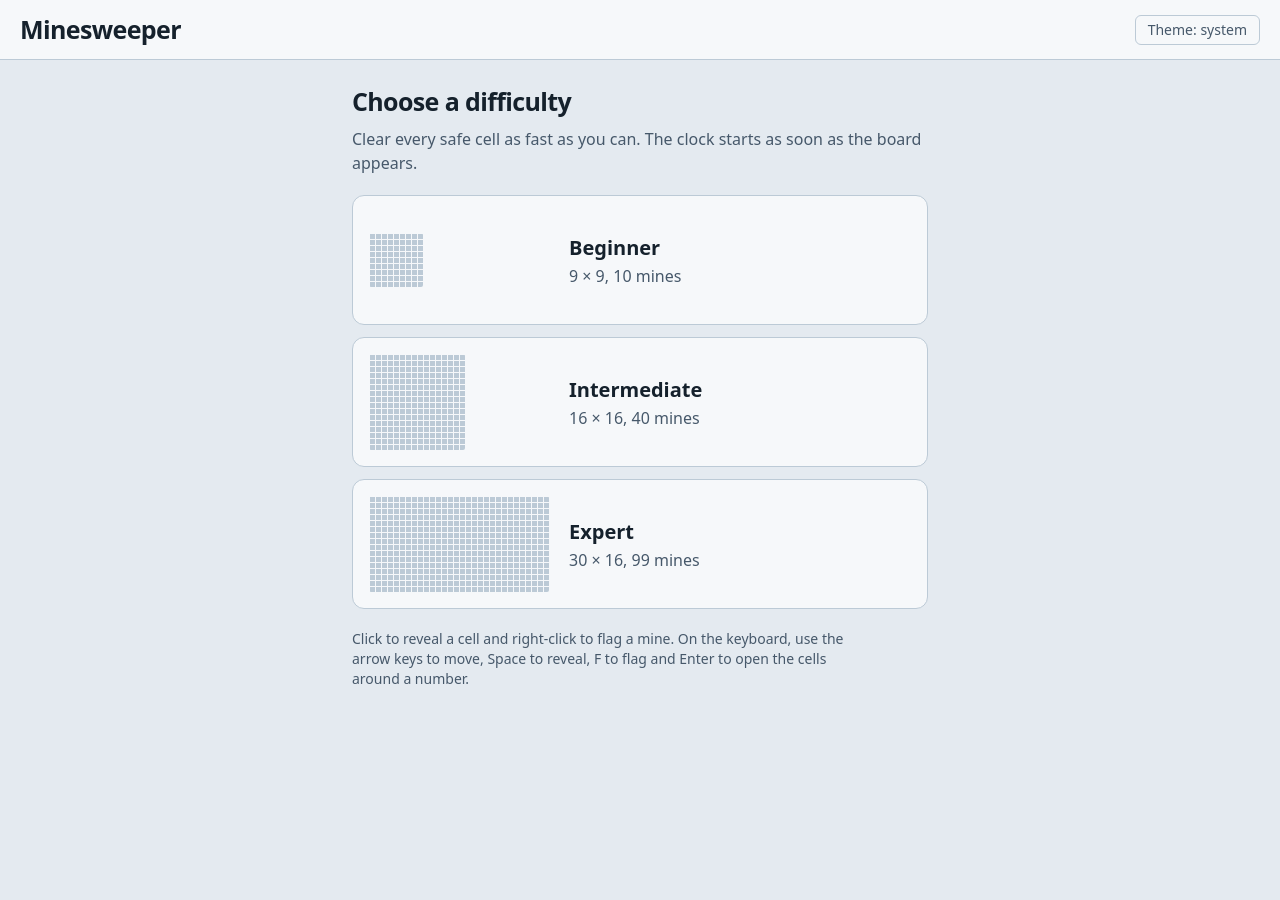
Scenario: App restart keys (plain) › R on the result screen is a new board whose mines differ from the last one
The image size is (1280, 900).
Click the button "Beginner 9 × 9, 10 mines". click: x=640, y=260
box: [352,195,928,325]
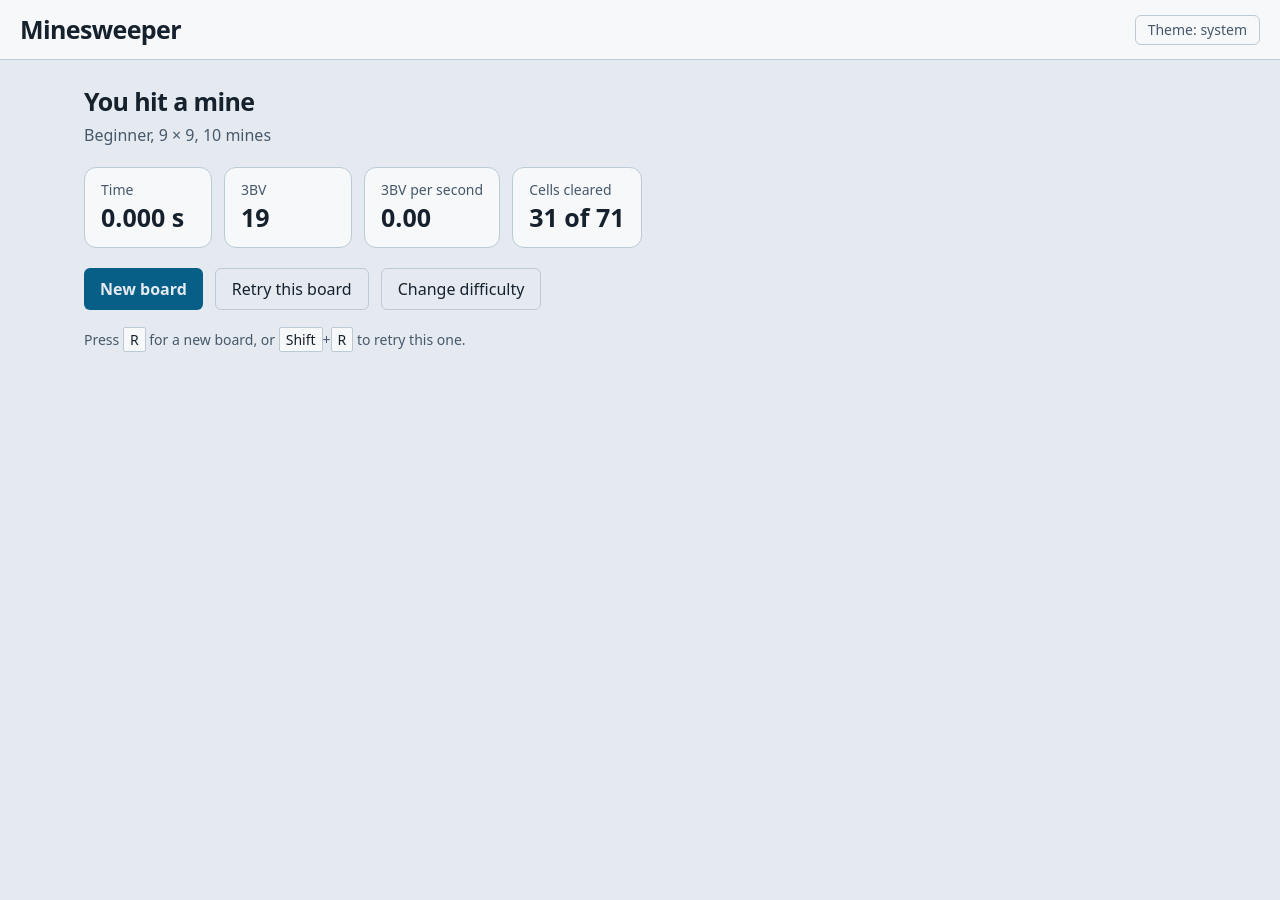
Now the heading "You hit a mine" is shown
Press r in the heading "You hit a mine", box [84,84,254,118]
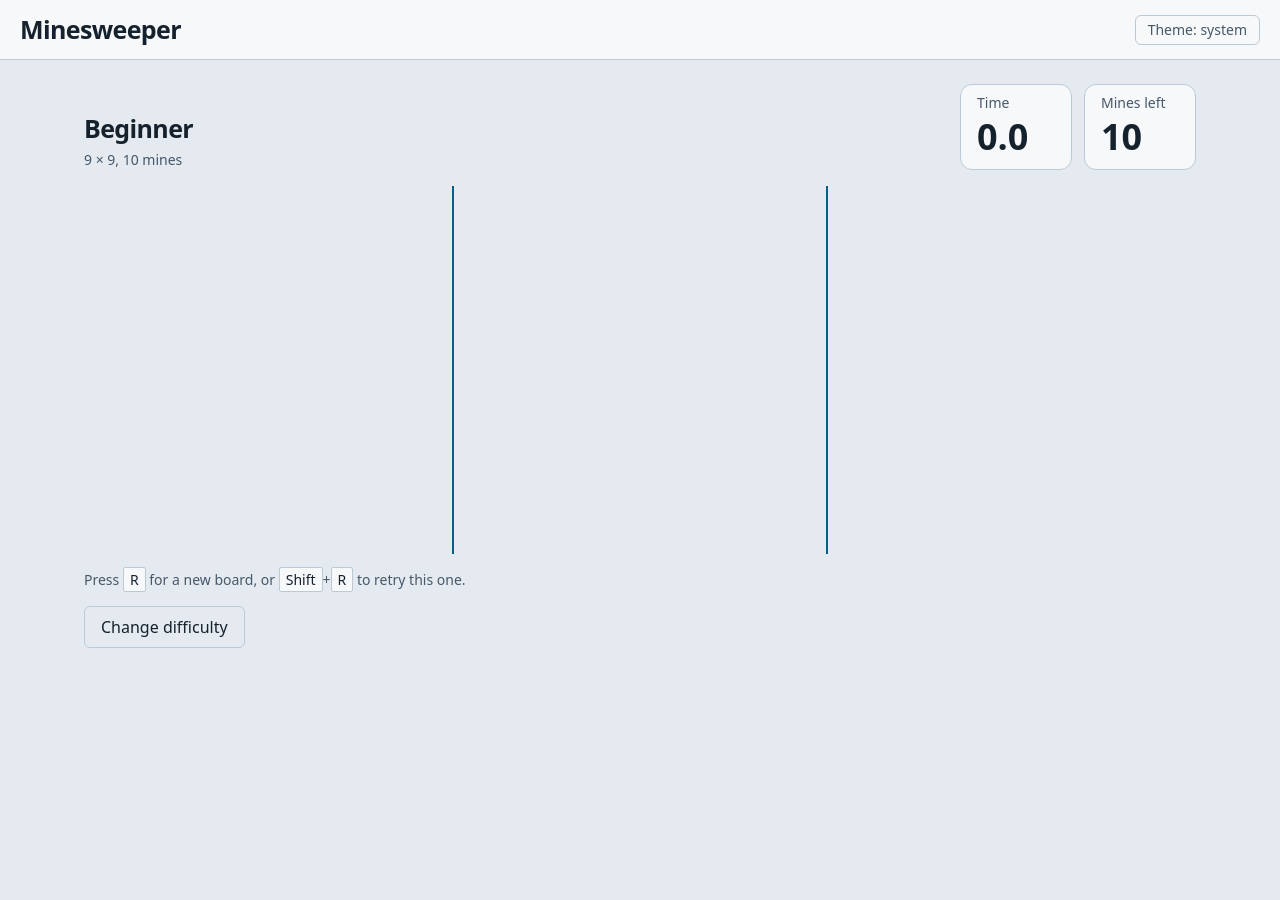
Now the heading "Beginner" is shown, box [84,111,193,146]
